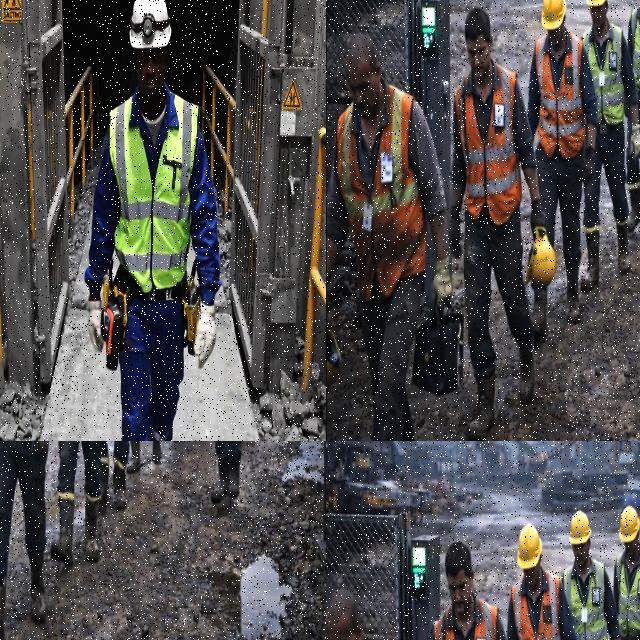Vest: (337, 86, 426, 302), (109, 95, 198, 292), (455, 63, 521, 225), (535, 31, 585, 159), (582, 24, 624, 125), (563, 559, 607, 639), (511, 571, 561, 639), (615, 557, 639, 638), (474, 599, 497, 639), (630, 7, 639, 92)
Worker: (85, 0, 220, 440), (327, 34, 451, 440), (449, 8, 545, 440), (528, 0, 597, 323), (581, 0, 639, 292), (0, 441, 48, 639), (508, 523, 576, 639), (563, 511, 620, 639), (433, 542, 506, 639), (51, 441, 101, 565), (614, 506, 639, 639), (326, 588, 364, 639), (211, 441, 241, 502), (628, 4, 639, 118), (113, 441, 129, 509), (127, 441, 140, 473), (174, 441, 180, 442)
helmet: (130, 0, 170, 49), (525, 227, 555, 286), (517, 523, 541, 570), (327, 327, 340, 390), (619, 506, 639, 543), (542, 0, 566, 30), (570, 511, 591, 545), (587, 0, 606, 6)
